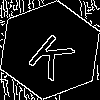K: (25, 25, 84, 82)
